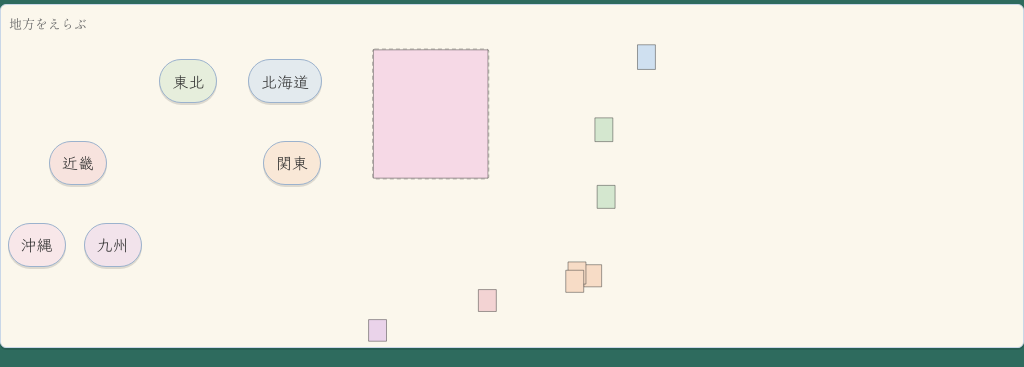
Test: RegionPicker › 地方を押すと段階 2（その地方の都道府県）になる
The width and height of the screenshot is (1024, 367).
Click the button with aria-label "関東地方". click: coordinates (292, 163)
box: [263,141,321,185]
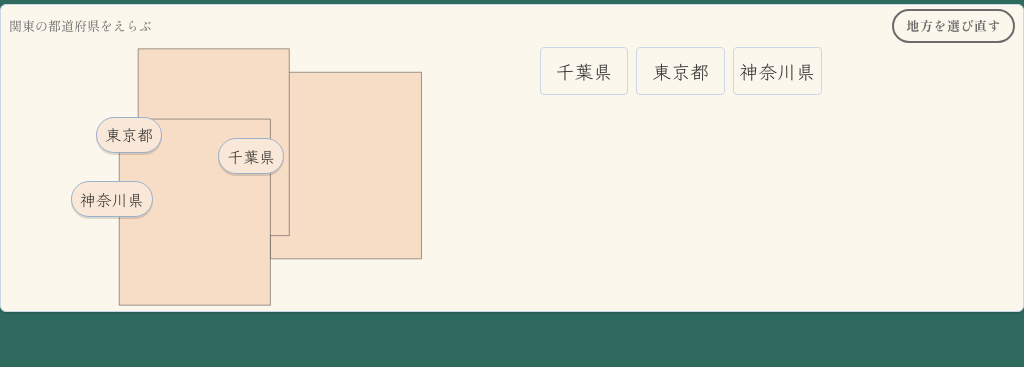
Now the text "関東の都道府県をえらぶ" is shown, box [9,14,152,38]
Now the number of buttons with class "jp-map__cell" is 3, box [540,47,628,95]; [636,47,725,95]; [733,47,822,95]
